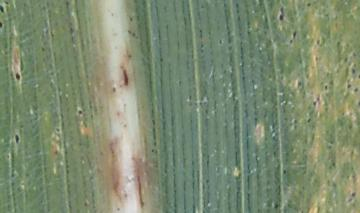tarspot: (279, 6, 285, 21), (14, 133, 21, 143), (54, 126, 61, 134), (15, 72, 21, 81), (312, 99, 318, 107), (77, 108, 83, 115), (296, 81, 302, 88), (292, 30, 297, 38), (1, 4, 5, 13), (351, 191, 357, 197), (274, 202, 279, 209), (324, 83, 328, 91), (306, 3, 312, 8), (282, 168, 287, 174), (347, 83, 352, 89), (354, 87, 359, 93), (307, 117, 312, 123), (129, 17, 134, 23), (352, 68, 356, 75), (1, 21, 4, 30), (132, 32, 137, 37), (289, 38, 293, 44)
